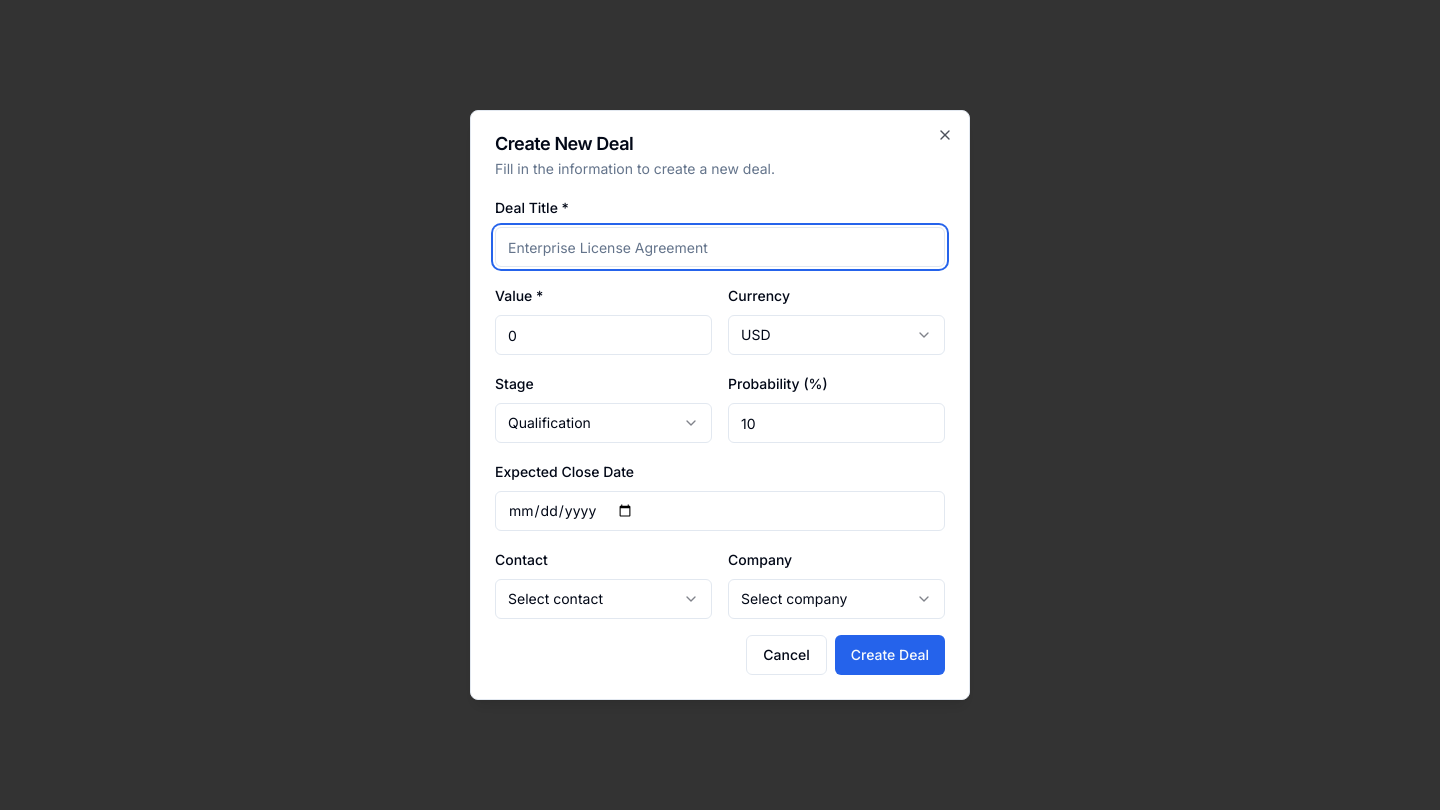
Test case: DealForm › Form Validation › should show error when deal title is empty
What coordinates should you click on to do the following:
click the button "Create Deal"
I would click on:
 (890, 655)
Its box is [835, 635, 945, 675].
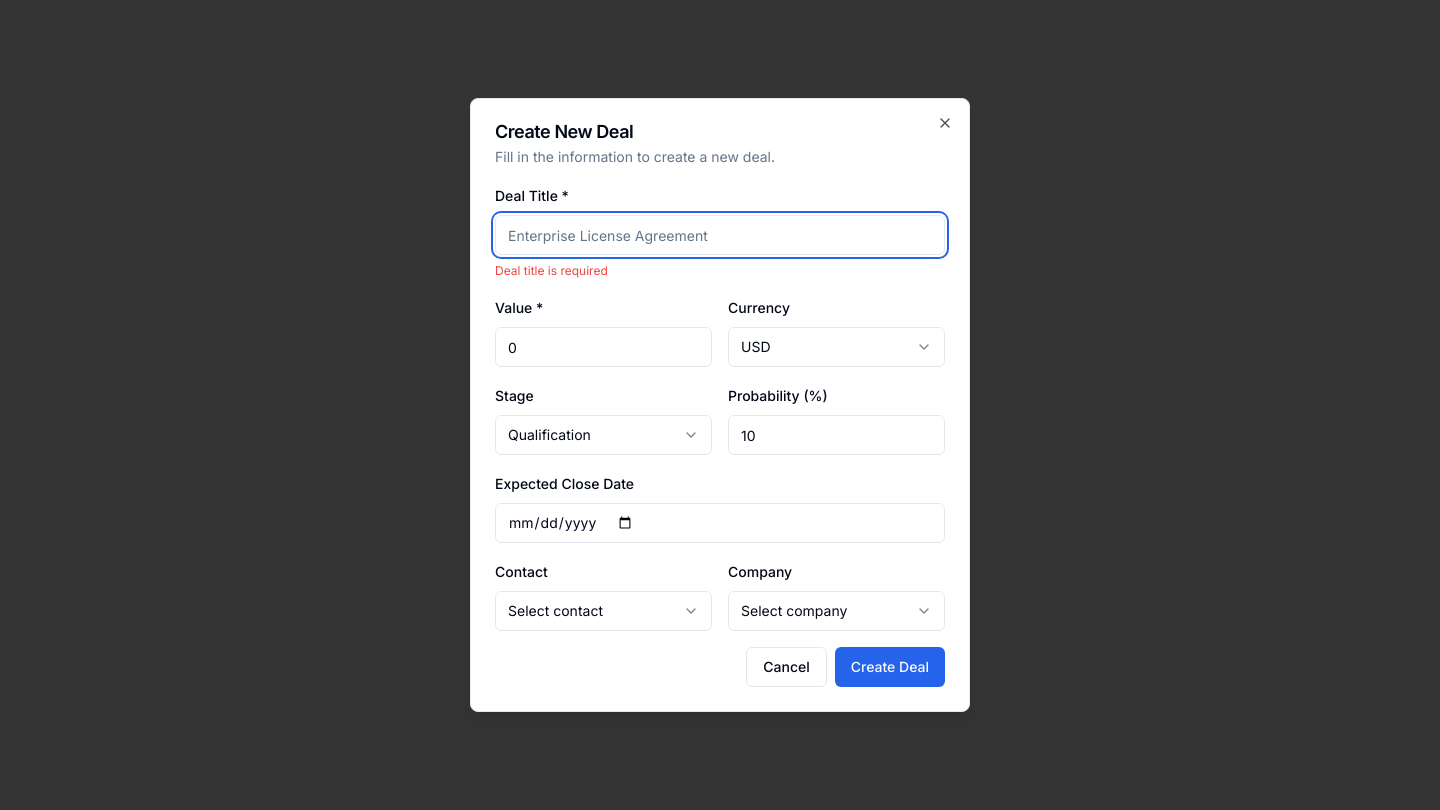
Expected: the text "Deal title is required" is shown, [495, 263, 608, 278]
